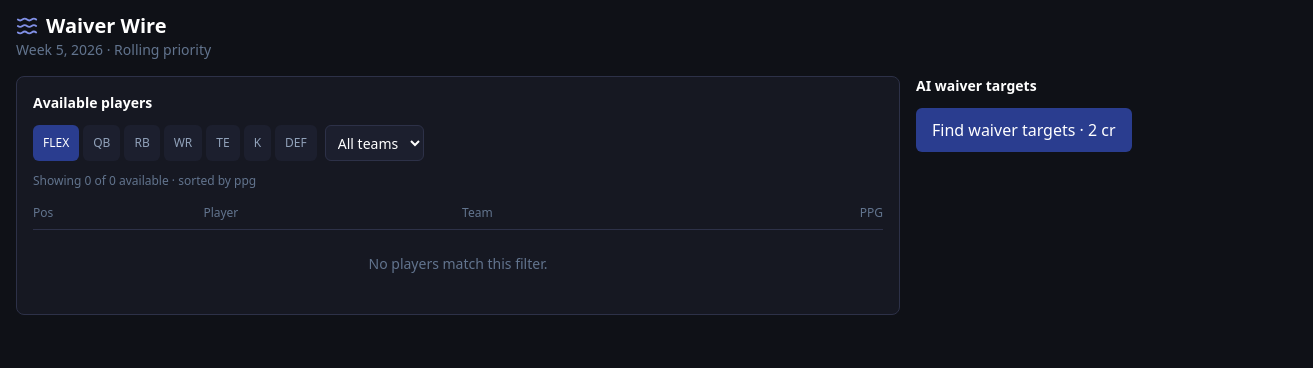
Test: Waiver page — the recommendation panel labels assumed money › replaces the bid with the tier for a league that claims by priority
The width and height of the screenshot is (1313, 368).
Click the button "Find waiver targets · 2 cr" at (1024, 130), box x1=916 y1=108 x2=1132 y2=152
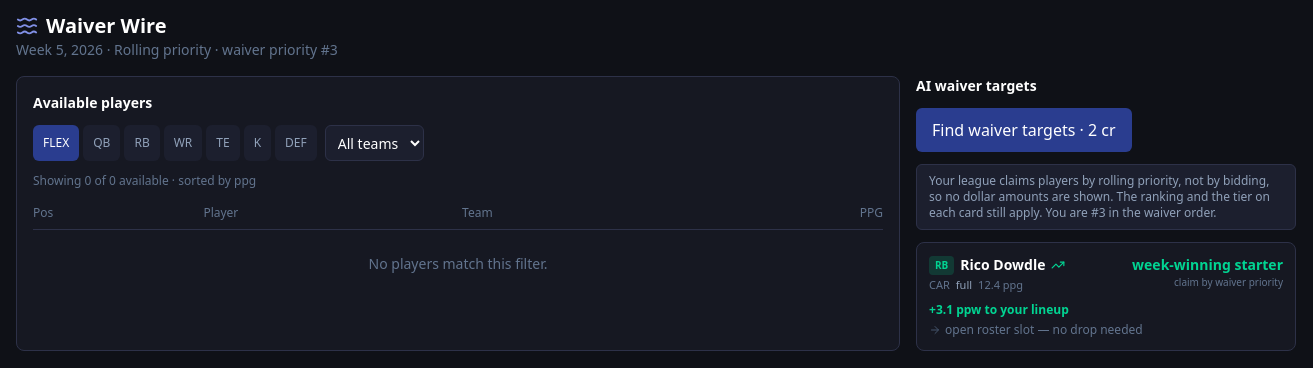
Expected: the text "week-winning starter" is shown, x1=1132 y1=255 x2=1283 y2=275
Expected: the text "claim by waiver priority" is shown, x1=1174 y1=275 x2=1283 y2=289
Expected: the text "not by bidding" is shown, x1=929 y1=172 x2=1270 y2=221
